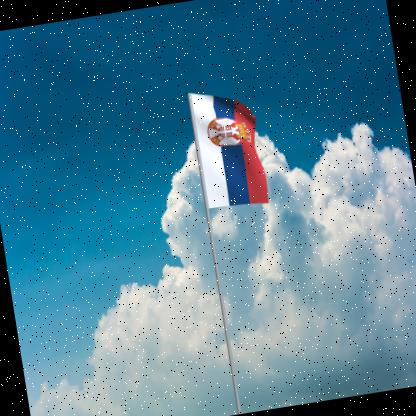rs: (191, 85, 271, 214)
